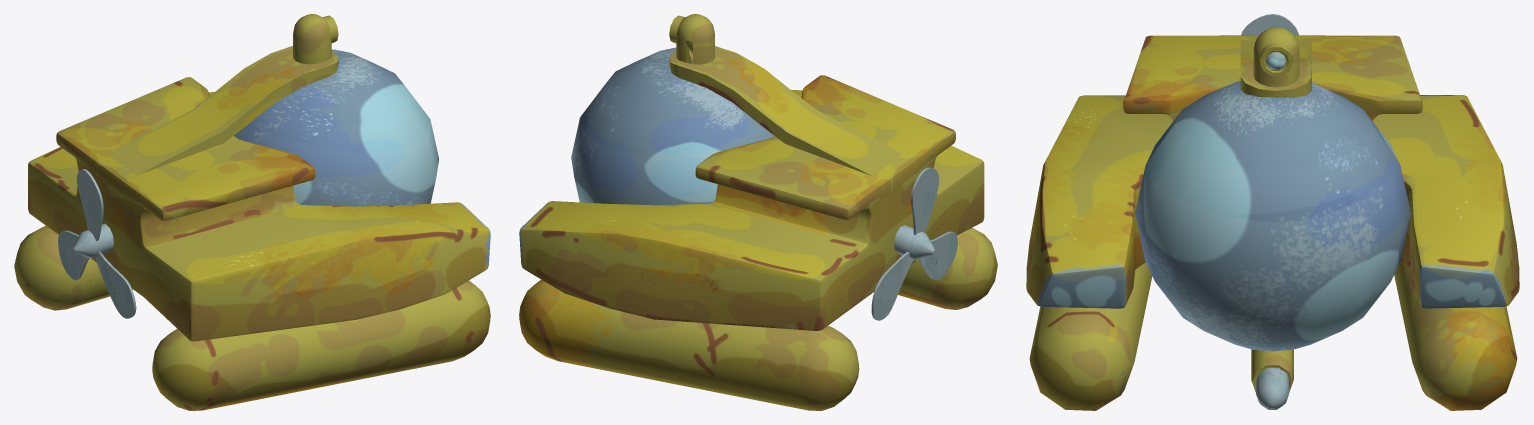
File: Submarine_V2.fbx
3 views of the same model, side by side, from view 1: azimuth 30°, elevation 25°; view 2: azimuth 150°, elevation 25°; view 3: azimuth 270°, elevation 25° (orthographic). The views are drawn at different scales.
Visible parts, largest first — view 1: Main_Hull, Tank_02, Canopy, Tank_01, Propeller, Sonar; view 2: Main_Hull, Tank_01, Canopy, Propeller, Tank_02, Sonar; view 3: Main_Hull, Canopy, Tank_02, Tank_01, Sonar, Torpedo, Torpedo_Holder, Propeller.
Boxes of the visible parts, left/top/right/bottom form: Main_Hull: left=28, top=46, right=490, bottom=341; Tank_02: left=152, top=280, right=490, bottom=410; Canopy: left=234, top=49, right=438, bottom=206; Tank_01: left=14, top=225, right=132, bottom=310; Propeller: left=58, top=169, right=136, bottom=318; Sonar: left=293, top=14, right=338, bottom=64; Main_Hull: left=519, top=46, right=984, bottom=330; Tank_01: left=519, top=279, right=859, bottom=410; Canopy: left=571, top=47, right=774, bottom=205; Propeller: left=871, top=167, right=957, bottom=320; Tank_02: left=898, top=228, right=997, bottom=309; Sonar: left=669, top=14, right=714, bottom=64; Main_Hull: left=1026, top=35, right=1519, bottom=308; Canopy: left=1135, top=81, right=1410, bottom=351; Tank_02: left=1029, top=262, right=1152, bottom=410; Tank_01: left=1394, top=262, right=1517, bottom=410; Sonar: left=1253, top=27, right=1299, bottom=87; Torpedo: left=1256, top=367, right=1288, bottom=409; Torpedo_Holder: left=1251, top=349, right=1293, bottom=392; Propeller: left=1241, top=14, right=1298, bottom=35.
Size of the model in its own units: 311 by 249 by 322.
Materials: 2 (1 with a texture image).
